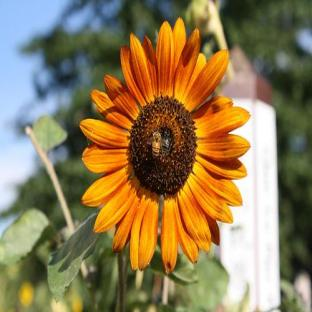sunflower: (79, 19, 251, 275)
